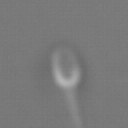normal: (65, 86, 88, 127)
